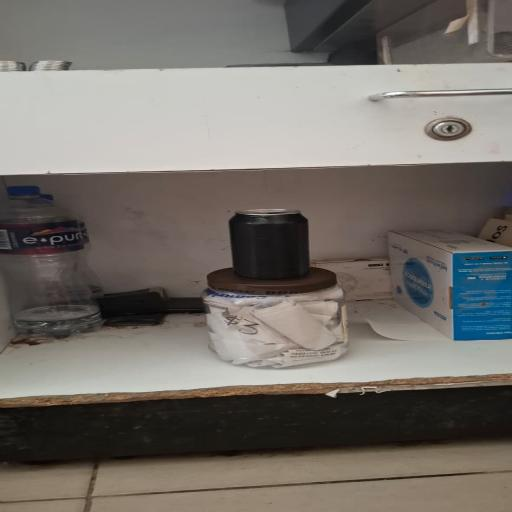LATA: (228, 208, 316, 281)
